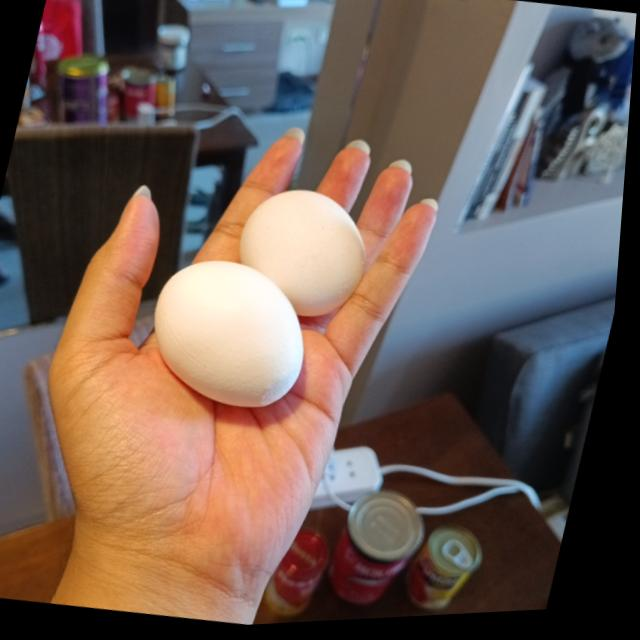egg: (139, 255, 326, 422), (233, 181, 389, 332)
